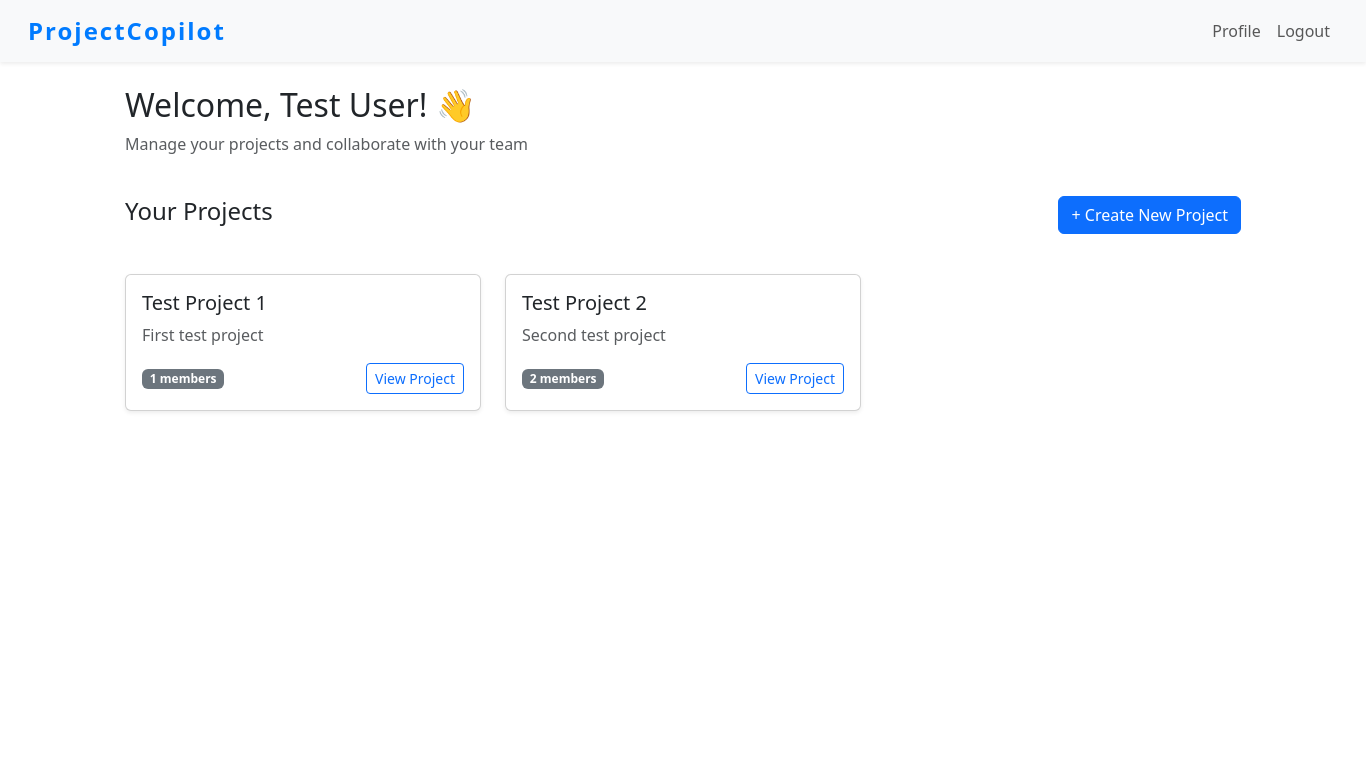
Test: Dashboard Component › shows create project modal when create button is clicked
Expected: the heading "Welcome, Test User! 👋" is shown, [125,83,476,126]
Click the button "+ Create New Project".
click(1150, 215)  # box [1058,196,1241,234]
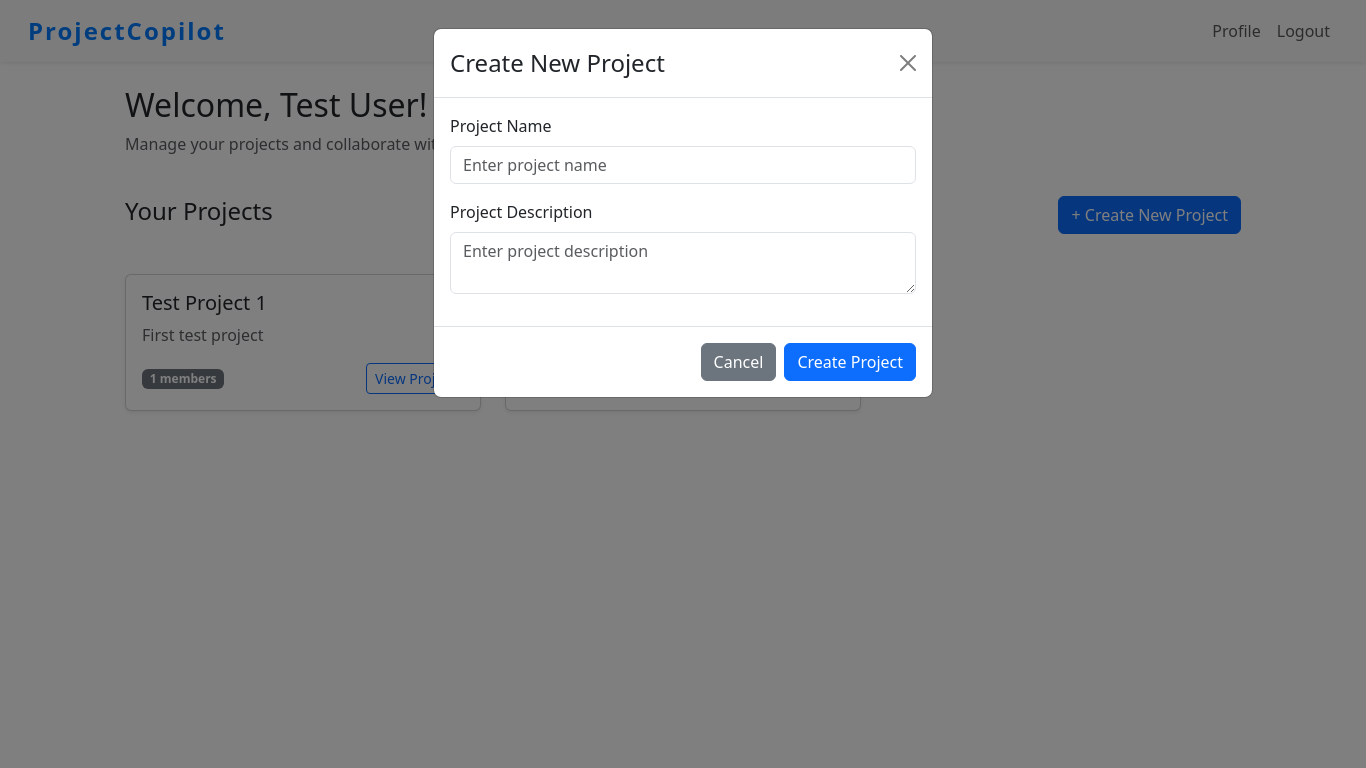
Now the text "Create New Project" is shown, box [450,45,665,81]
Now the field with placeholder "Enter project name" is shown, box [450,146,916,184]
Now the text box with placeholder "Enter project description" is shown, box [450,232,916,294]
